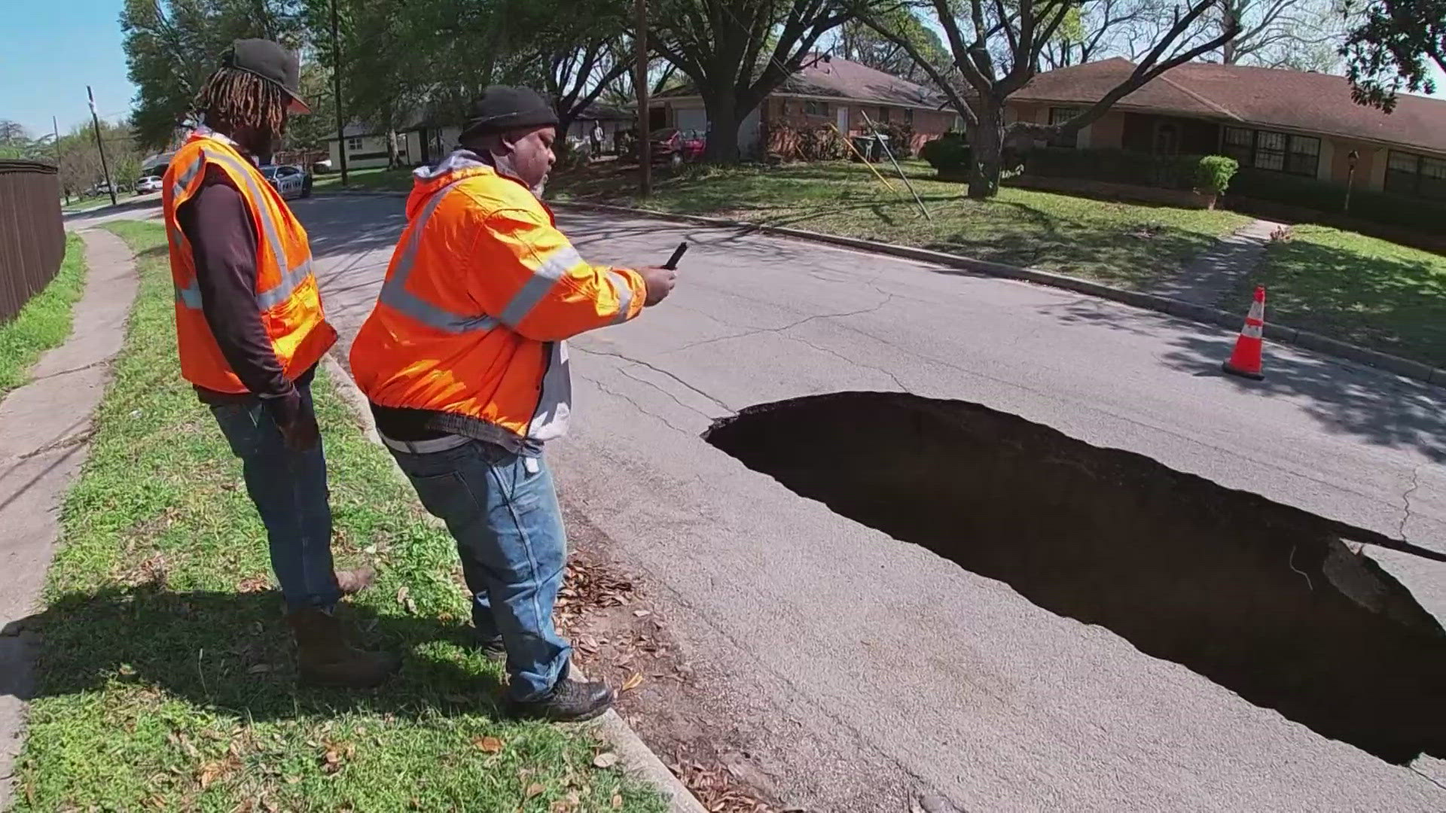Hole_in_the_road: (700, 388, 1446, 772)
Person: (388, 80, 659, 712), (148, 37, 405, 697)
Road_cone: (1213, 276, 1280, 393)
Tree: (872, 1, 1099, 220), (636, 1, 785, 171)
